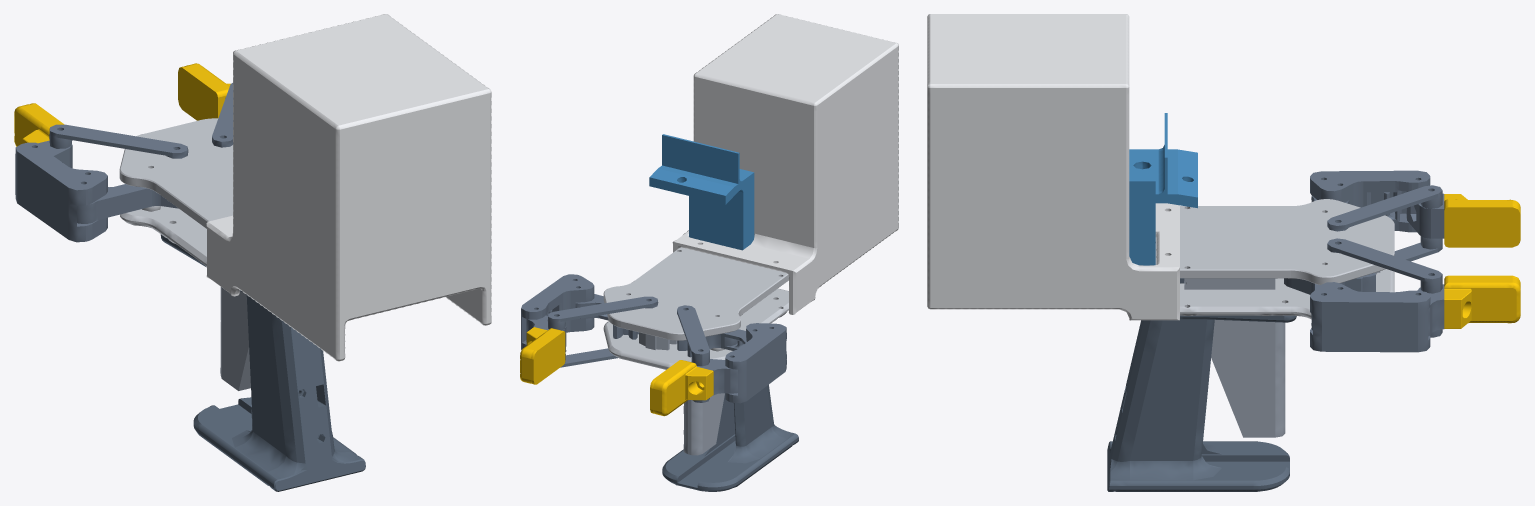
Rendered from handheld_gripper.glb.
3 renders of one model, left to right at view 1: azimuth 30°, elevation 25°; view 2: azimuth 150°, elevation 25°; view 3: azimuth 270°, elevation 25°, orthographic. The views are drawn at different scales.
Visible parts, largest first — view 1: aruco, holder, linkage, frame, fingertip, trigger; view 2: aruco, frame, linkage, camera, holder, fingertip, trigger; view 3: aruco, holder, linkage, frame, trigger, fingertip, camera.
Part boxes in pixels (x1=…): aruco: x1=206, y1=14, x2=491, y2=361; holder: x1=160, y1=234, x2=365, y2=491; linkage: x1=15, y1=83, x2=233, y2=242; frame: x1=119, y1=118, x2=233, y2=267; fingertip: x1=14, y1=63, x2=230, y2=146; trigger: x1=220, y1=287, x2=250, y2=390; aruco: x1=672, y1=14, x2=898, y2=314; frame: x1=603, y1=247, x2=788, y2=369; linkage: x1=521, y1=274, x2=786, y2=403; camera: x1=649, y1=134, x2=754, y2=250; holder: x1=662, y1=319, x2=798, y2=491; fingertip: x1=520, y1=327, x2=713, y2=416; trigger: x1=639, y1=332, x2=724, y2=455; aruco: x1=927, y1=14, x2=1179, y2=320; holder: x1=1107, y1=278, x2=1296, y2=491; linkage: x1=1284, y1=170, x2=1444, y2=352; frame: x1=1155, y1=199, x2=1394, y2=319; trigger: x1=1184, y1=271, x2=1380, y2=437; fingertip: x1=1444, y1=194, x2=1520, y2=328; camera: x1=1129, y1=113, x2=1197, y2=265.
Size of the model in its own units: 0.526 by 0.7867 by 1.
